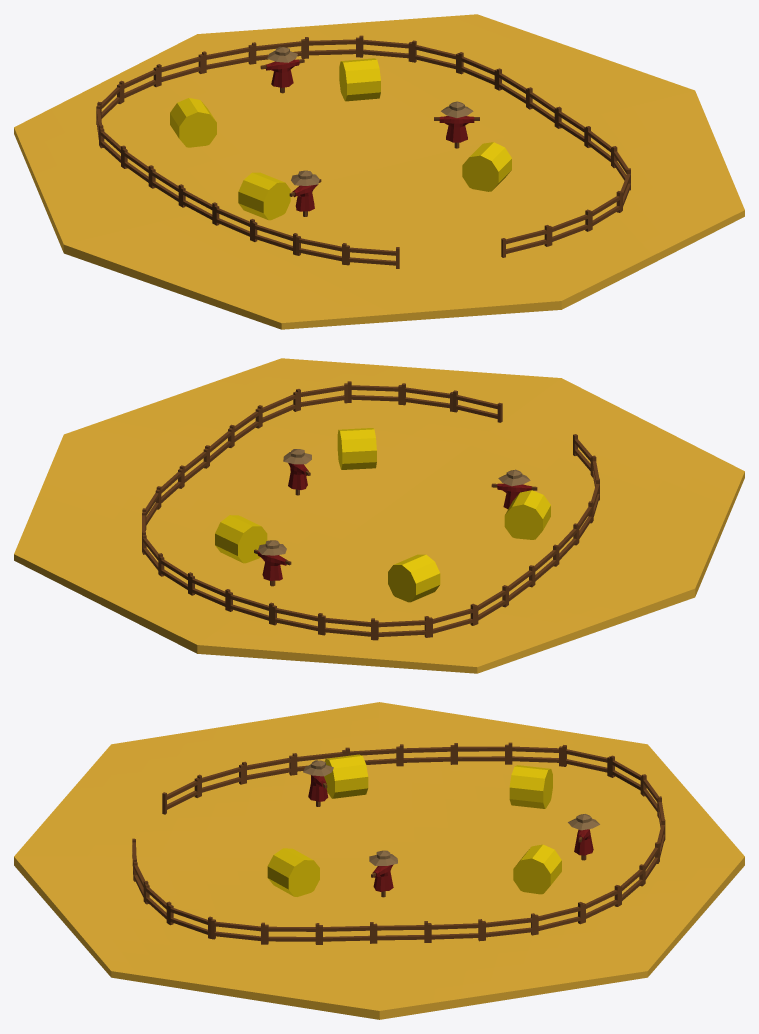
The model's file is firstField.fbx.
3 renders of one model, top to bottom at view 1: azimuth 30°, elevation 25°; view 2: azimuth 150°, elevation 25°; view 3: azimuth 270°, elevation 25°, orthographic.
Parts seen in each view (by area): view 1: alja, Kerites, bála4, bála2, bála, bála3, MIRuha, MIRuha.002; view 2: alja, Kerites, bála, bála3, bála4, bála2, MIRuha.002; view 3: alja, Kerites, bála2, bála3, bála, bála4.
Part boxes in pixels (box(x1,y1,x2,y2)): alja: box(14, 14, 744, 329); Kerites: box(96, 35, 630, 268); bála4: box(238, 172, 290, 220); bála2: box(462, 142, 511, 191); bála: box(170, 98, 216, 147); bála3: box(339, 58, 380, 101); MIRuha: box(439, 116, 474, 142); MIRuha.002: box(265, 59, 299, 87); alja: box(14, 358, 744, 673); Kerites: box(142, 381, 599, 640); bála: box(388, 554, 440, 602); bála3: box(215, 515, 267, 563); bála4: box(504, 490, 550, 539); bála2: box(337, 428, 376, 469); MIRuha.002: box(257, 551, 287, 580); alja: box(14, 702, 744, 1019); Kerites: box(132, 742, 665, 944); bála2: box(267, 848, 319, 896); bála3: box(513, 844, 561, 894); bála: box(509, 765, 552, 808); bála4: box(324, 754, 368, 798).
Bounding box in the file's own units: 2930 × 237 × 2930.
